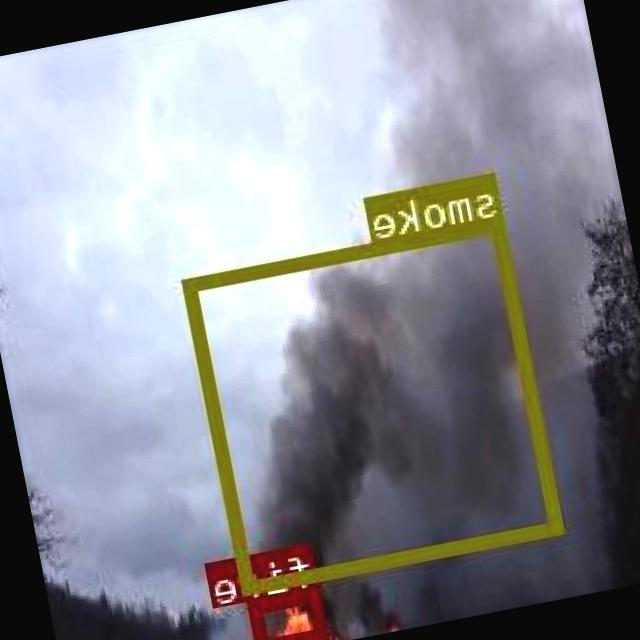fire: (252, 585, 332, 640)
smoke: (185, 215, 565, 592)
